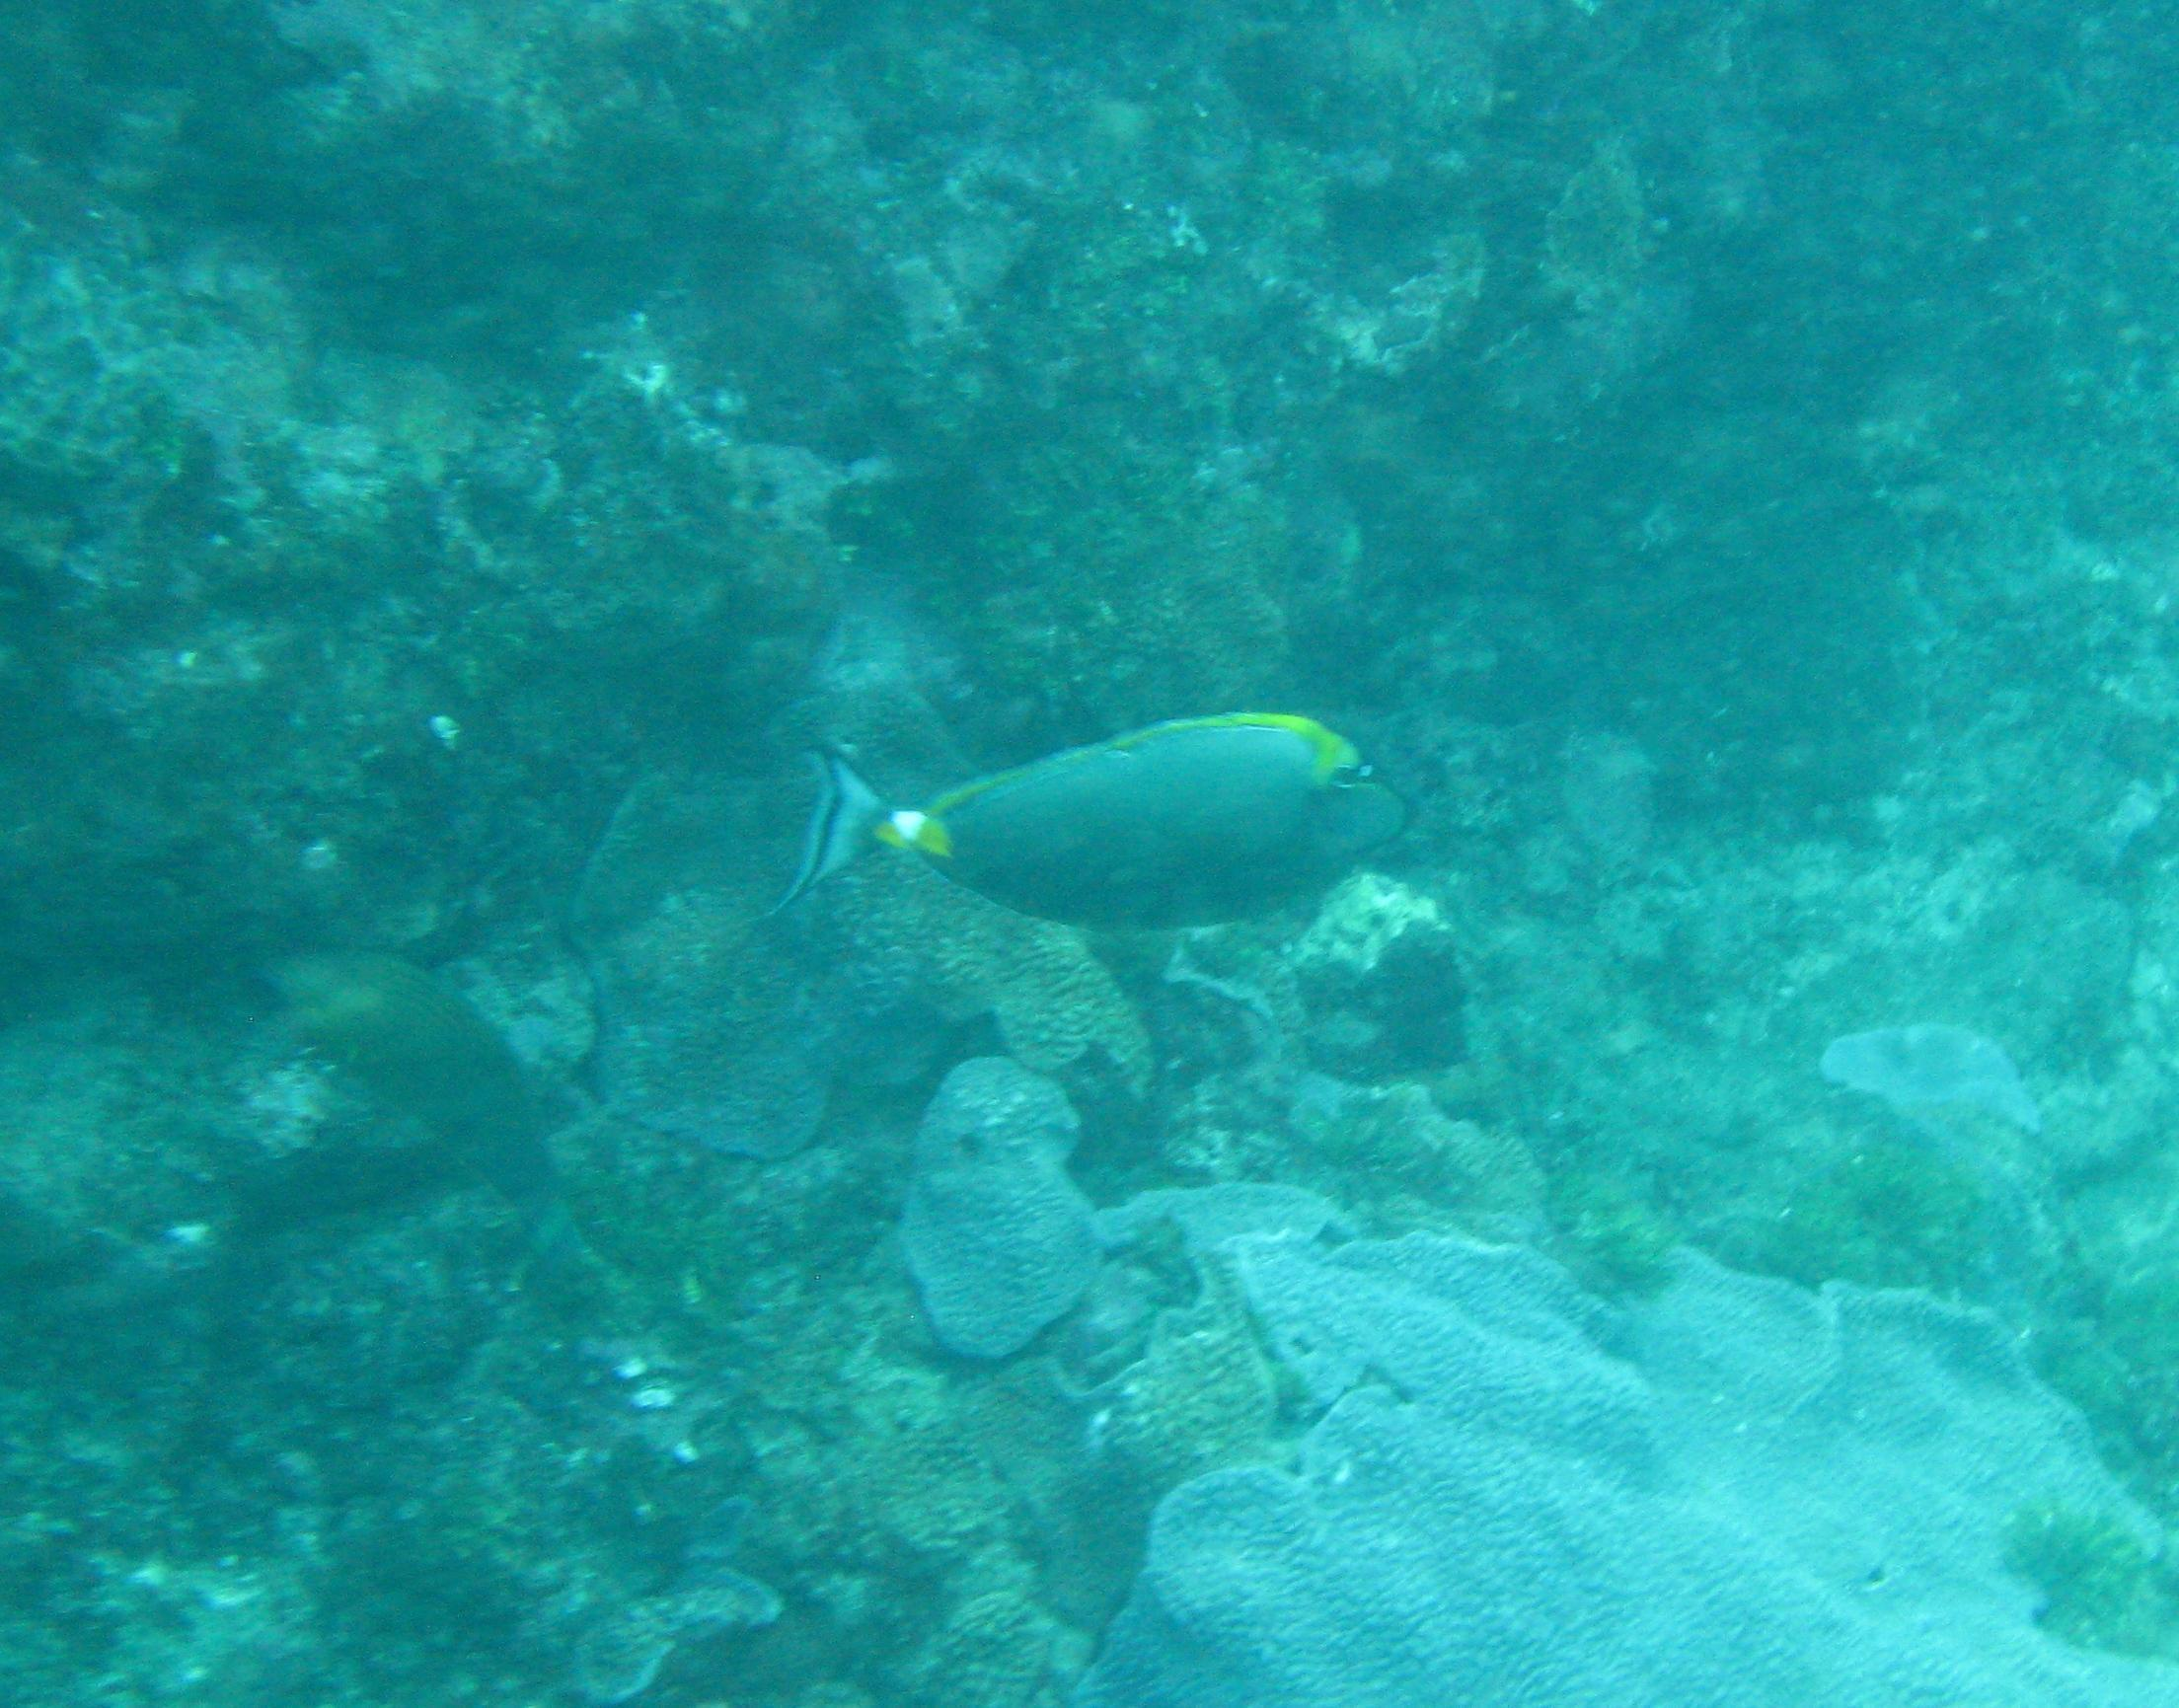Fish: (684, 649, 1510, 1024)
